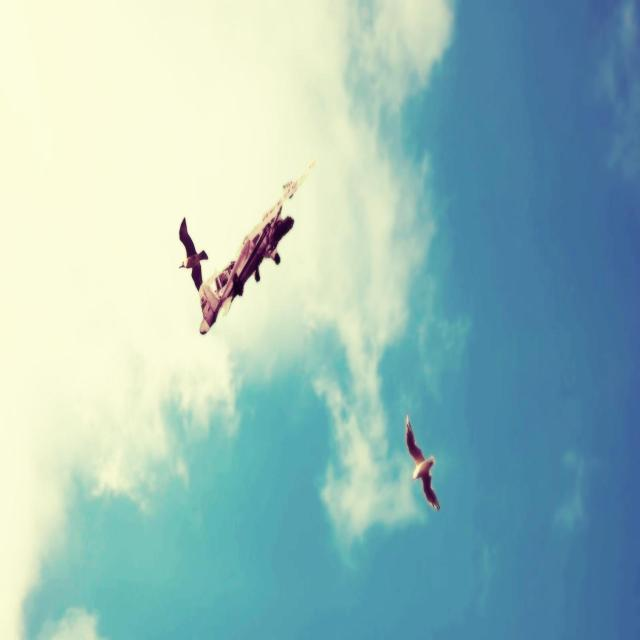airplane: (198, 155, 318, 337)
